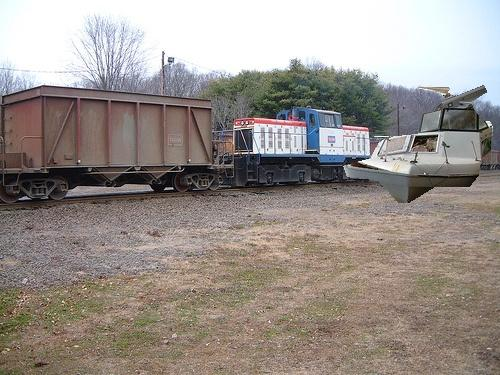tampered: (344, 86, 493, 203)
